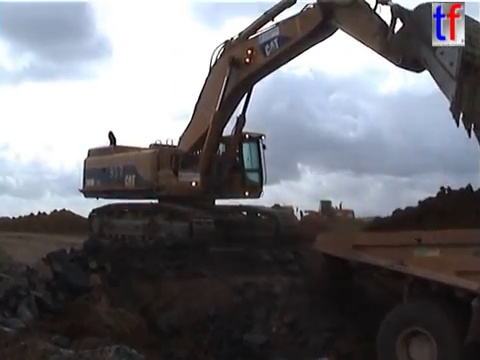excavator: (74, 1, 480, 254)
truck: (308, 224, 480, 360)
wheel loader: (294, 198, 357, 234)
